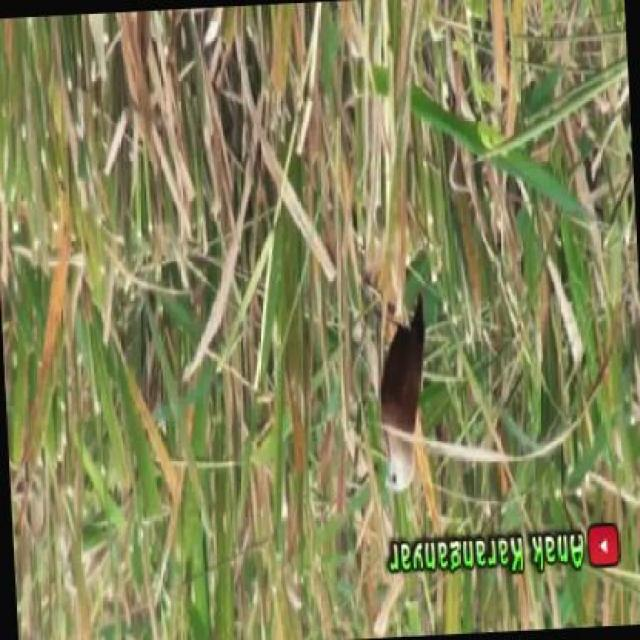Bird: (369, 289, 435, 507)
